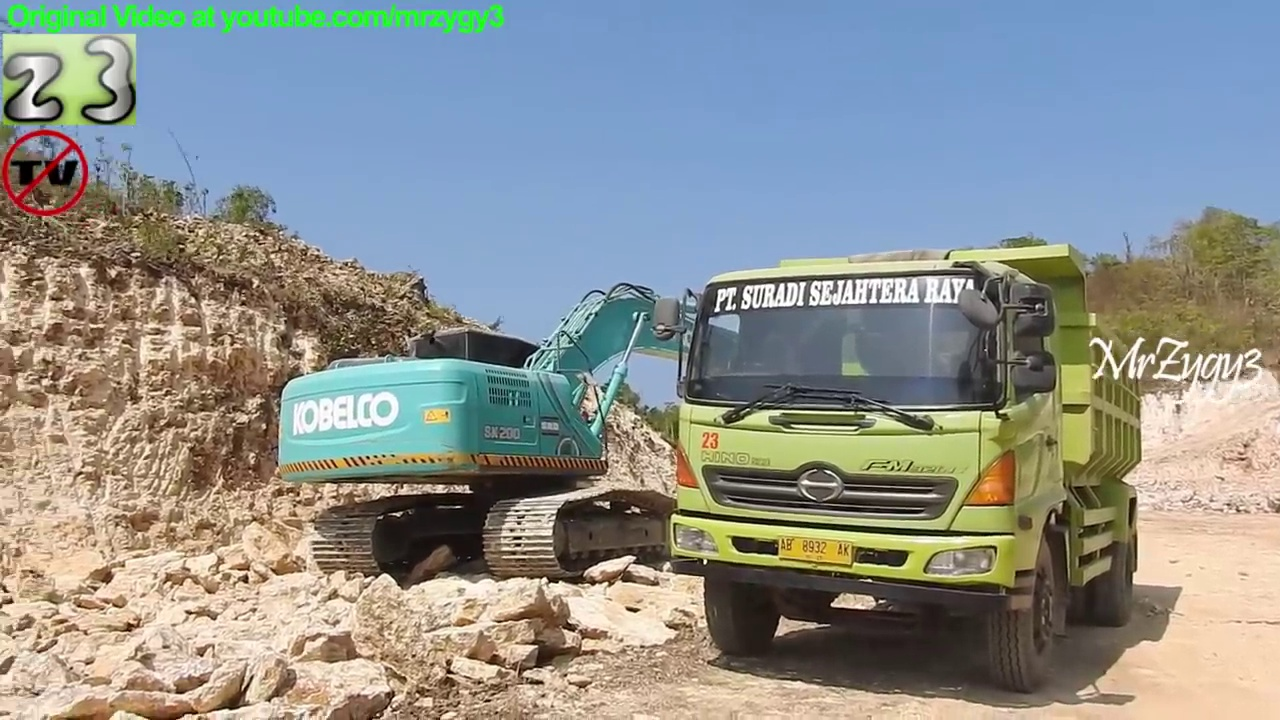excavator: (268, 278, 1015, 593)
truck: (646, 237, 1150, 700)
